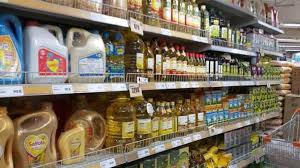saffola: (0, 106, 14, 167)
